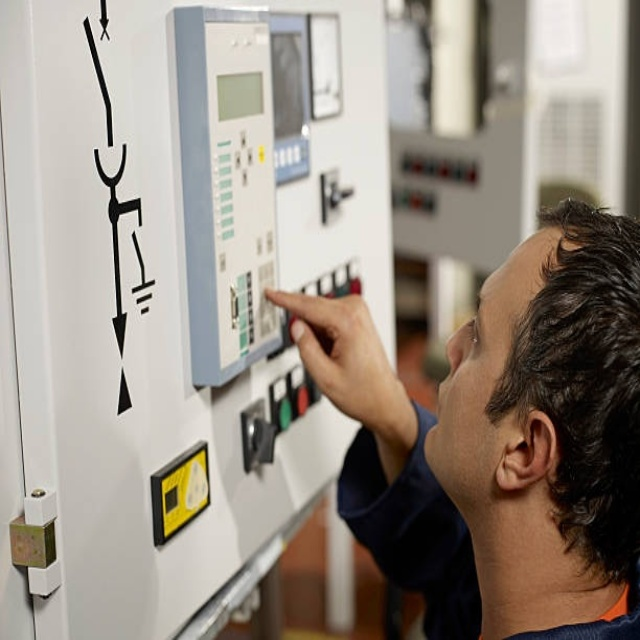Sin_gafas: (466, 279, 502, 374)
Sin_guantes: (260, 284, 400, 431)
Sin_mascara: (418, 375, 468, 467)
